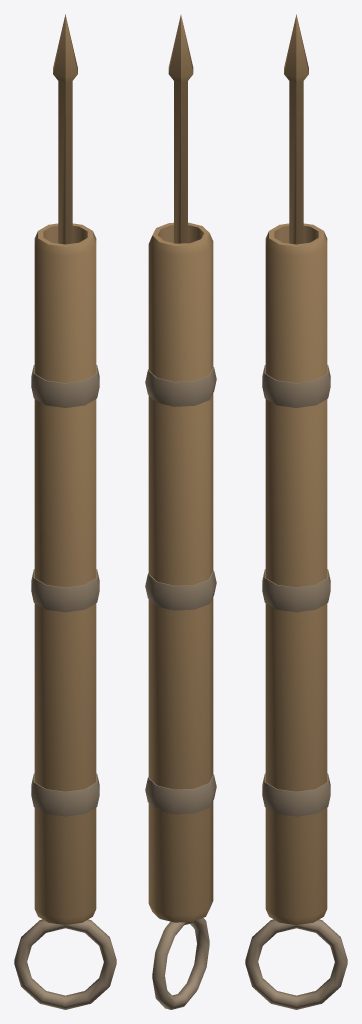
File: tube-arrow-shooter.glb
3 renders of one model, left to right at view 1: azimuth 90°, elevation 25°; view 2: azimuth 150°, elevation 25°; view 3: azimuth 270°, elevation 25°, orthographic.
Visible parts, largest first — view 1: tube-arrow-shooter; view 2: tube-arrow-shooter; view 3: tube-arrow-shooter.
Part boxes in pixels (x1,y1,x2,y2): tube-arrow-shooter: [14, 14, 116, 1009]; tube-arrow-shooter: [145, 15, 216, 1009]; tube-arrow-shooter: [245, 14, 347, 1009].
Bounding box in the file's own units: 0.08 × 1.22 × 0.1139.
